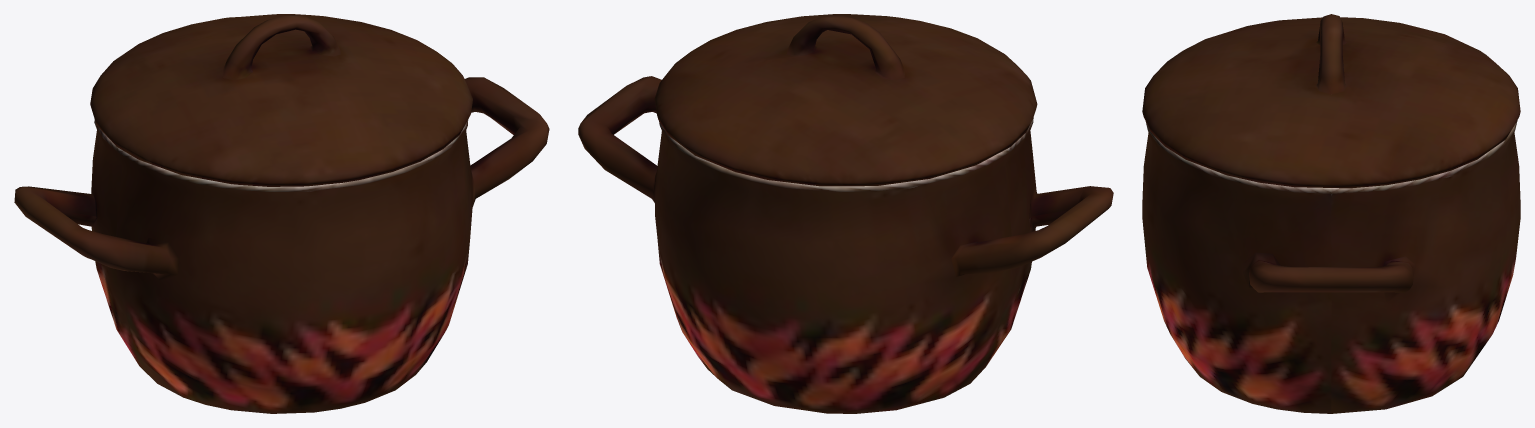
File: pot.glb
The picture shows the model from 3 angles, left to right: view 1: azimuth 30°, elevation 25°; view 2: azimuth 150°, elevation 25°; view 3: azimuth 270°, elevation 25°; orthographic projection.
Visible parts, largest first — view 1: pot_enamel_01_base, pot_enamel_01_lid; view 2: pot_enamel_01_base, pot_enamel_01_lid; view 3: pot_enamel_01_base, pot_enamel_01_lid.
Part boxes in pixels (x1,y1,x2,y2): pot_enamel_01_base: (14, 77, 549, 413); pot_enamel_01_lid: (90, 14, 472, 186); pot_enamel_01_base: (578, 76, 1113, 413); pot_enamel_01_lid: (654, 14, 1037, 186); pot_enamel_01_base: (1142, 120, 1520, 413); pot_enamel_01_lid: (1142, 14, 1520, 188).
Size of the model in its own units: 0.2625 by 0.178 by 0.1796.
1 material, 1 textured.
